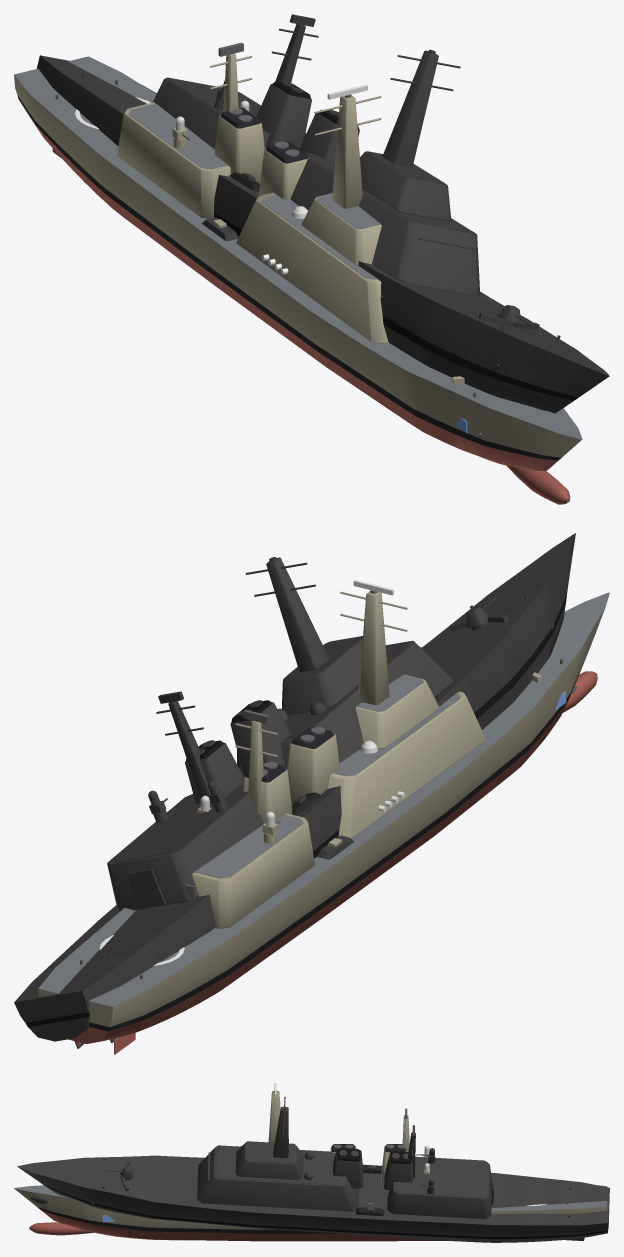
The model's file is corvette__kamorta_class.glb.
The picture shows the model from 3 angles, top to bottom: view 1: azimuth 30°, elevation 25°; view 2: azimuth 150°, elevation 25°; view 3: azimuth 270°, elevation 25°; orthographic projection. The views are drawn at different scales.
Parts seen in each view (by area): view 1: Hull_Mesh, Wreck; view 2: Hull_Mesh, Wreck; view 3: Wreck, Hull_Mesh.
Part boxes in pixels (x1,y1,x2,y2): Hull_Mesh: (14, 42, 582, 504); Wreck: (36, 14, 609, 413); Hull_Mesh: (38, 591, 609, 1054); Wreck: (14, 533, 575, 1048); Wreck: (17, 1096, 609, 1242); Hull_Mesh: (14, 1091, 607, 1241).
Size of what is drawn, in the model's own units: 21.92 by 32.87 by 114.
